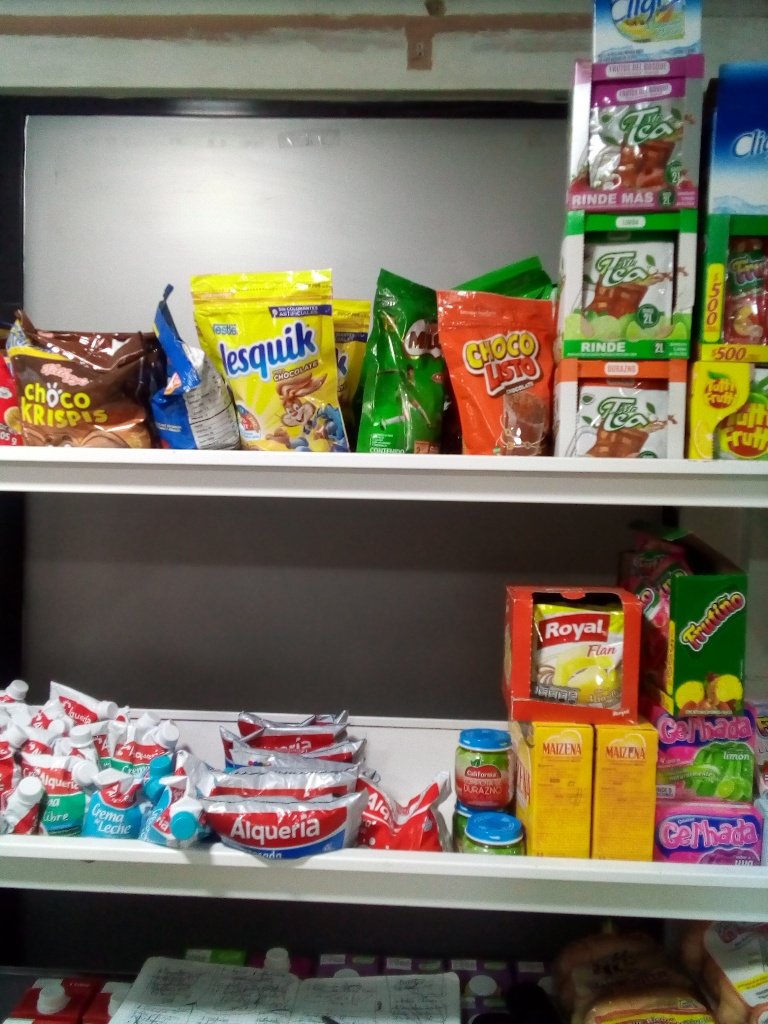COL0170303DYP20000: (197, 262, 360, 441)
